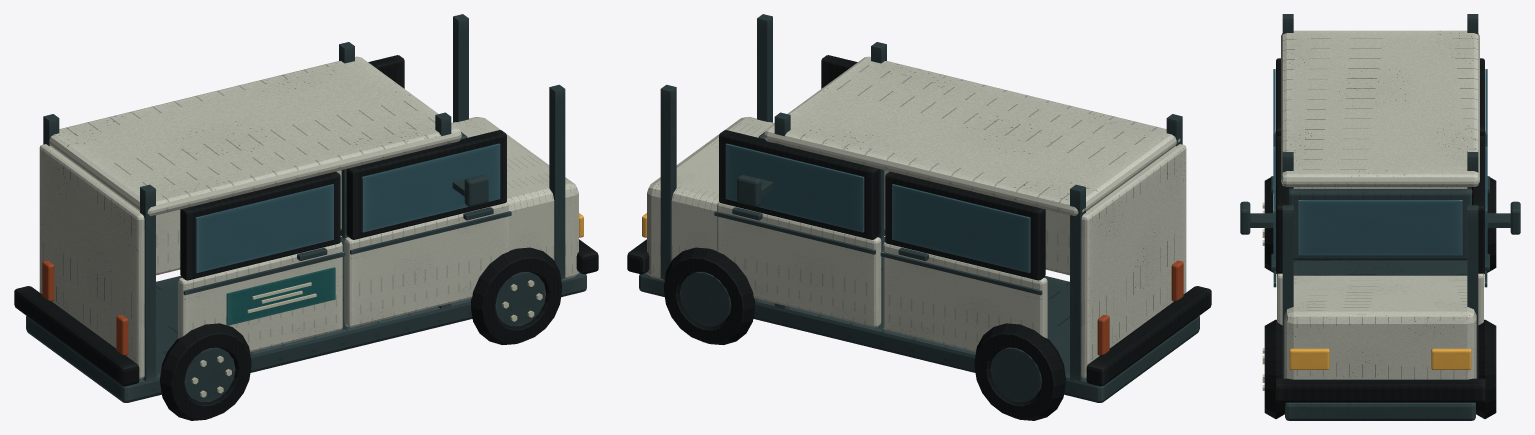
File: delivery_van.fbx
3 renders of one model, left to right at view 1: azimuth 30°, elevation 25°; view 2: azimuth 150°, elevation 25°; view 3: azimuth 270°, elevation 25°, orthographic. The views are drawn at different scales.
Parts seen in each view (by area): view 1: delivery_van__roof, delivery_van__backdoor, delivery_van__door_skin.001, delivery_van__chassis, delivery_van__door_skin, delivery_van__window_glass, delivery_van__window_glass.001, delivery_van__hood, delivery_van__roadwheel tyre, delivery_van__roadwheel tyre.002, delivery_van__window_gasket.001, delivery_van__window_gasket (+14 smaller); view 2: delivery_van__roof, delivery_van__backdoor, delivery_van__door_skin.003, delivery_van__door_skin.002, delivery_van__chassis, delivery_van__window_glass.002, delivery_van__window_glass.003, delivery_van__hood, delivery_van__roadwheel tyre.001, delivery_van__roadwheel tyre.003, delivery_van__window_gasket.003, delivery_van__window_gasket.002 (+13 smaller); view 3: delivery_van__roof, delivery_van__hood, delivery_van__windshield, delivery_van__chassis, delivery_van__bumper.001, delivery_van__windshield_frame, delivery_van__roadwheel tyre.002, delivery_van__roadwheel tyre.003, delivery_van__structural_pillar.002, delivery_van__structural_pillar.005, delivery_van__window_gasket.001, delivery_van__window_gasket.003 (+15 smaller).
Part boxes in pixels (box(x1,y1,x2,y2)): delivery_van__roof: box(49, 56, 461, 215); delivery_van__backdoor: box(39, 144, 144, 378); delivery_van__door_skin.001: box(344, 201, 508, 327); delivery_van__chassis: box(26, 236, 586, 402); delivery_van__door_skin: box(178, 242, 342, 352); delivery_van__window_glass: box(195, 184, 333, 273); delivery_van__window_glass.001: box(361, 143, 500, 232); delivery_van__hood: box(451, 117, 578, 280); delivery_van__roadwheel tyre: box(160, 323, 251, 420); delivery_van__roadwheel tyre.002: box(471, 247, 561, 344); delivery_van__window_gasket.001: box(346, 130, 506, 239); delivery_van__window_gasket: box(180, 171, 340, 280); delivery_van__roof: box(764, 56, 1180, 215); delivery_van__backdoor: box(1081, 144, 1186, 378); delivery_van__door_skin.003: box(717, 201, 881, 327); delivery_van__door_skin.002: box(883, 242, 1047, 352); delivery_van__chassis: box(639, 236, 1199, 402); delivery_van__window_glass.002: box(892, 184, 1030, 273); delivery_van__window_glass.003: box(725, 143, 864, 232); delivery_van__hood: box(647, 117, 774, 280); delivery_van__roadwheel tyre.001: box(974, 323, 1065, 420); delivery_van__roadwheel tyre.003: box(664, 247, 754, 344); delivery_van__window_gasket.003: box(719, 130, 879, 239); delivery_van__window_gasket.002: box(885, 171, 1045, 280); delivery_van__roof: box(1281, 30, 1479, 186); delivery_van__hood: box(1284, 275, 1476, 379); delivery_van__windshield: box(1298, 200, 1462, 255); delivery_van__chassis: box(1285, 260, 1475, 420); delivery_van__bumper.001: box(1274, 378, 1486, 402); delivery_van__windshield_frame: box(1288, 189, 1472, 260); delivery_van__roadwheel tyre.002: box(1264, 319, 1284, 418); delivery_van__roadwheel tyre.003: box(1476, 319, 1496, 418); delivery_van__structural_pillar.002: box(1282, 205, 1293, 378); delivery_van__structural_pillar.005: box(1467, 205, 1478, 378); delivery_van__window_gasket.001: box(1276, 136, 1288, 273); delivery_van__window_gasket.003: box(1472, 136, 1484, 273).
Size of the model in its own units: 565 by 272 by 301.
Materials: 8 (8 with a texture image).
